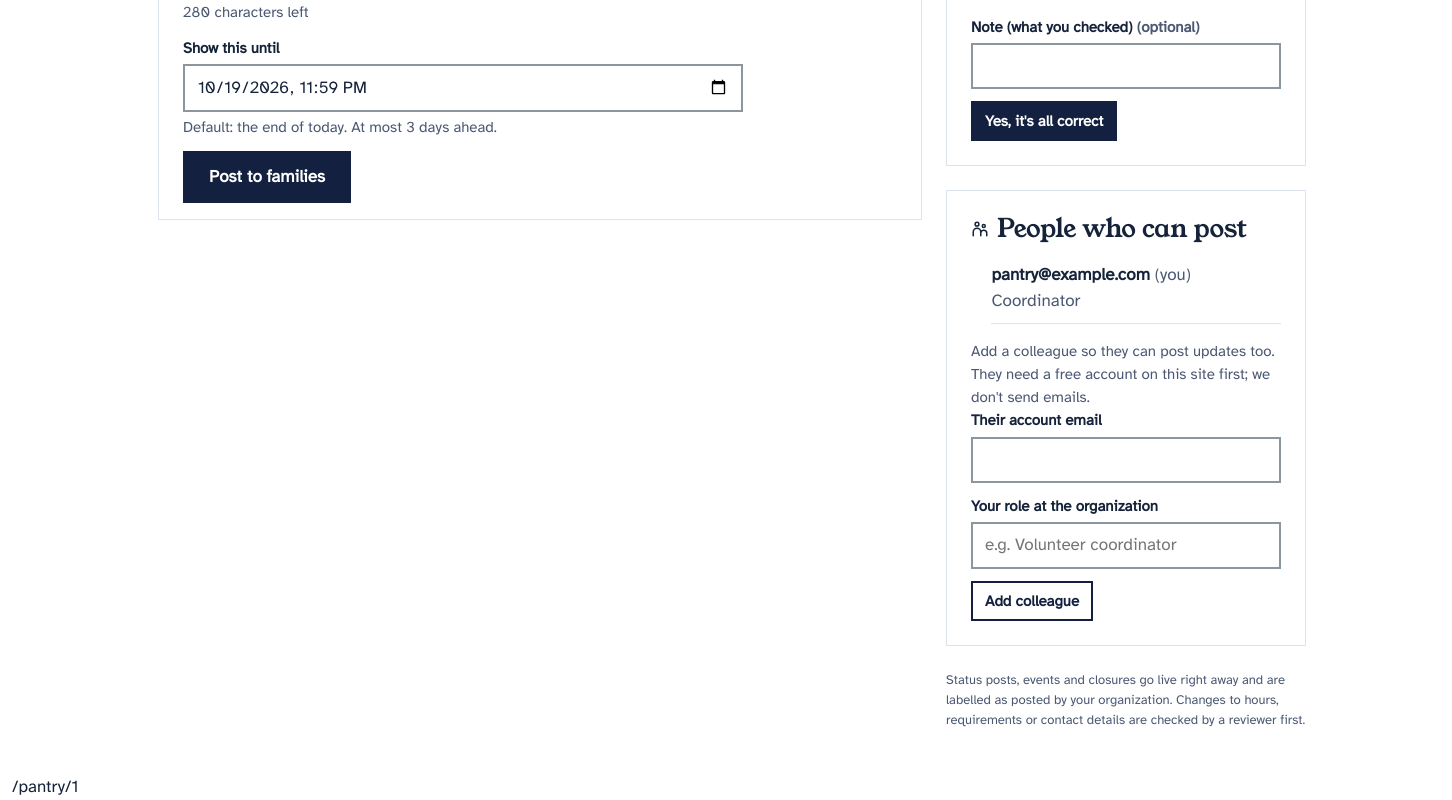
provider portal: dashboard › adds a colleague
(page scrolled)
Type "new@example.org" into the field labelled "Their account email" at (1126, 460), box top-left (971, 437), bottom-right (1281, 483)
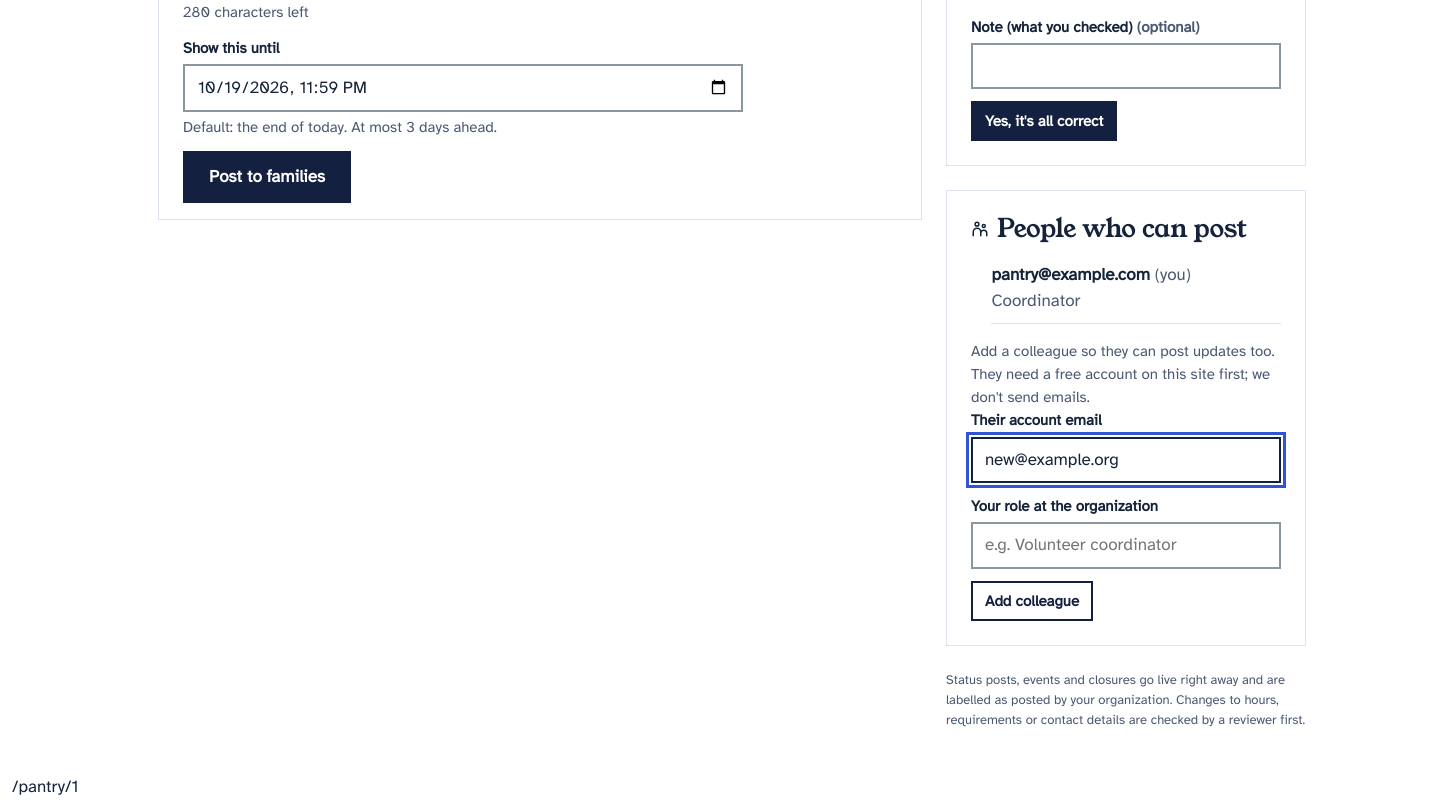
Type "Volunteer" into the field labelled "Your role at the organization" at (1126, 545), box top-left (971, 522), bottom-right (1281, 569)
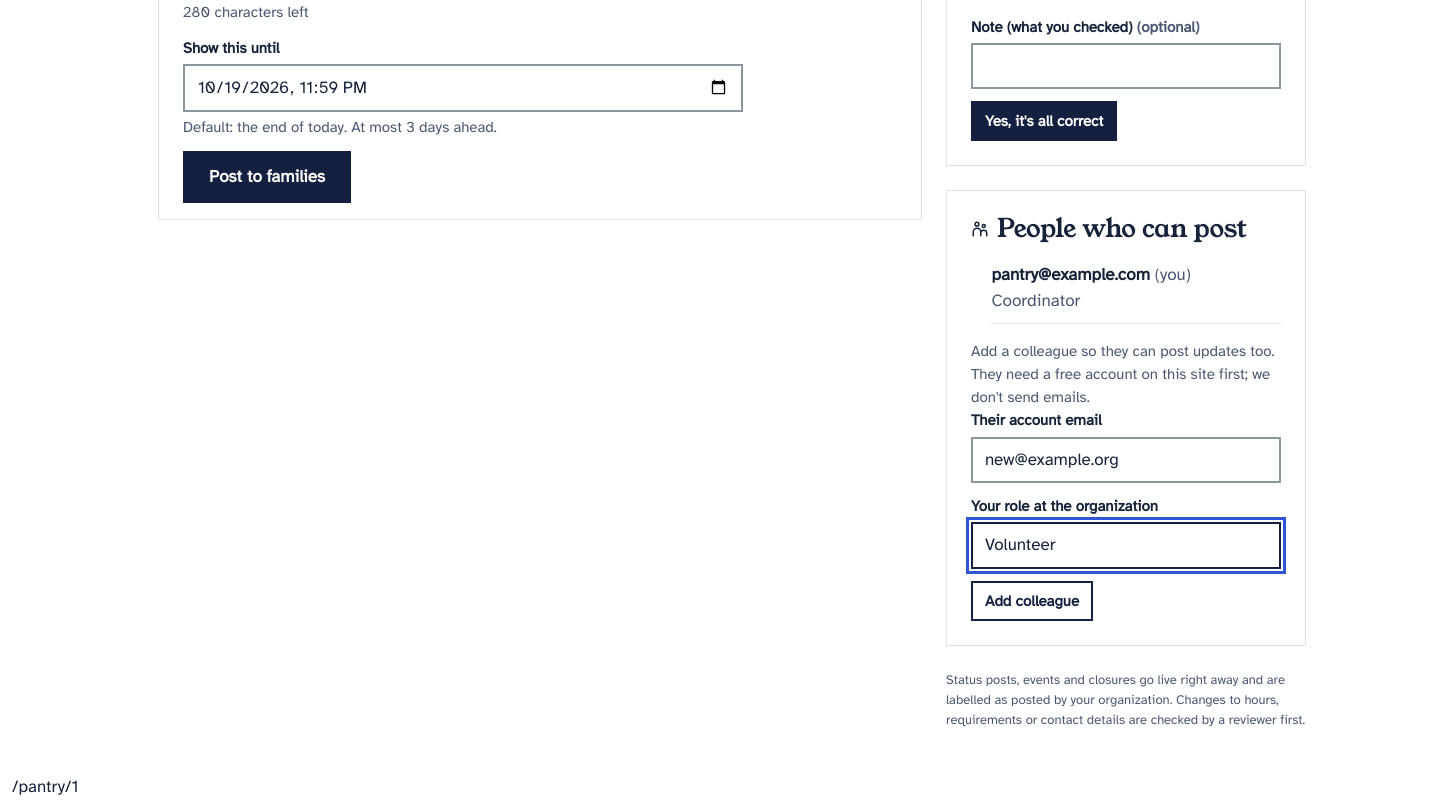
Click the button "Add colleague" at (1032, 601), box top-left (971, 581), bottom-right (1093, 621)
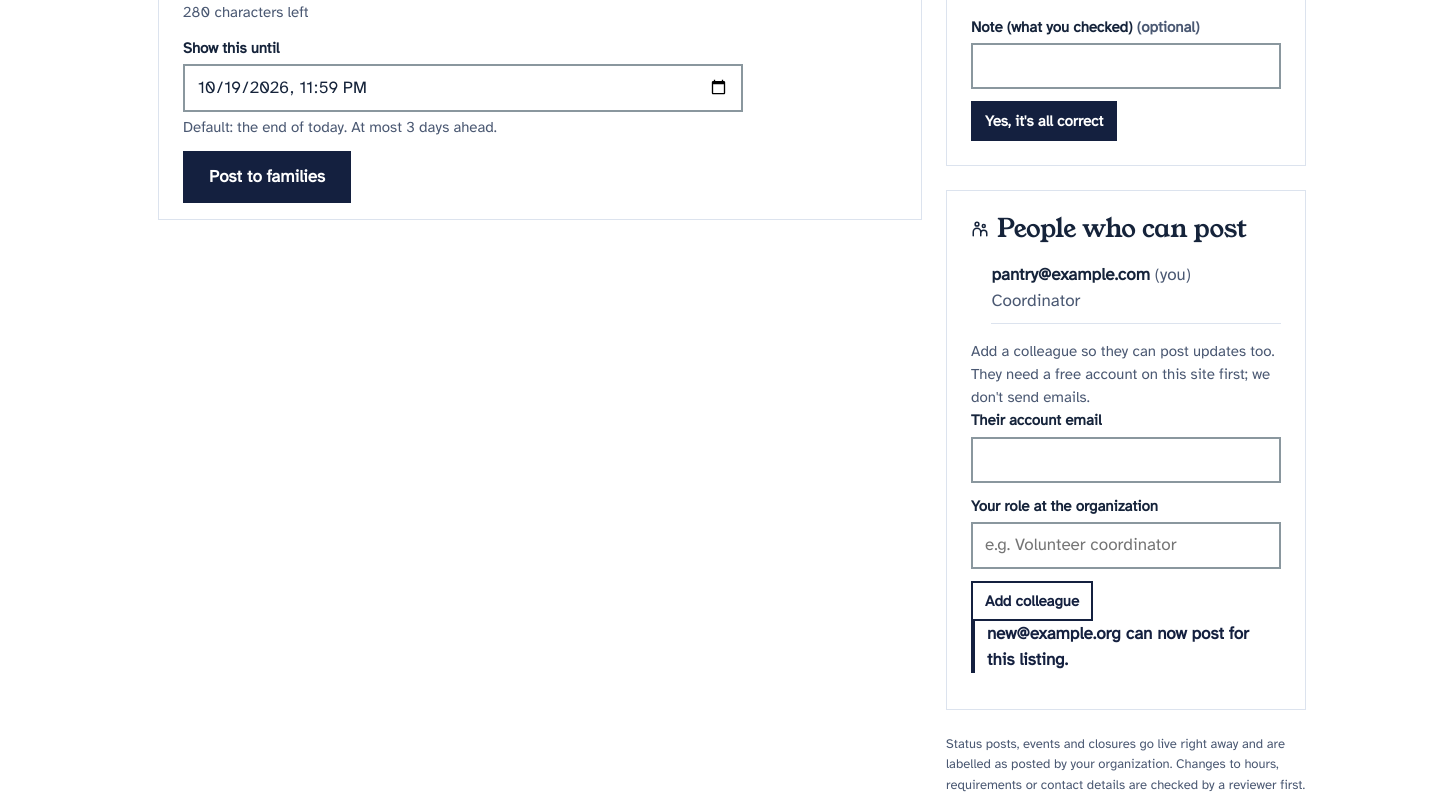
Now the text "new@example.org can now post for this listing." is shown, box top-left (971, 621), bottom-right (1281, 673)
